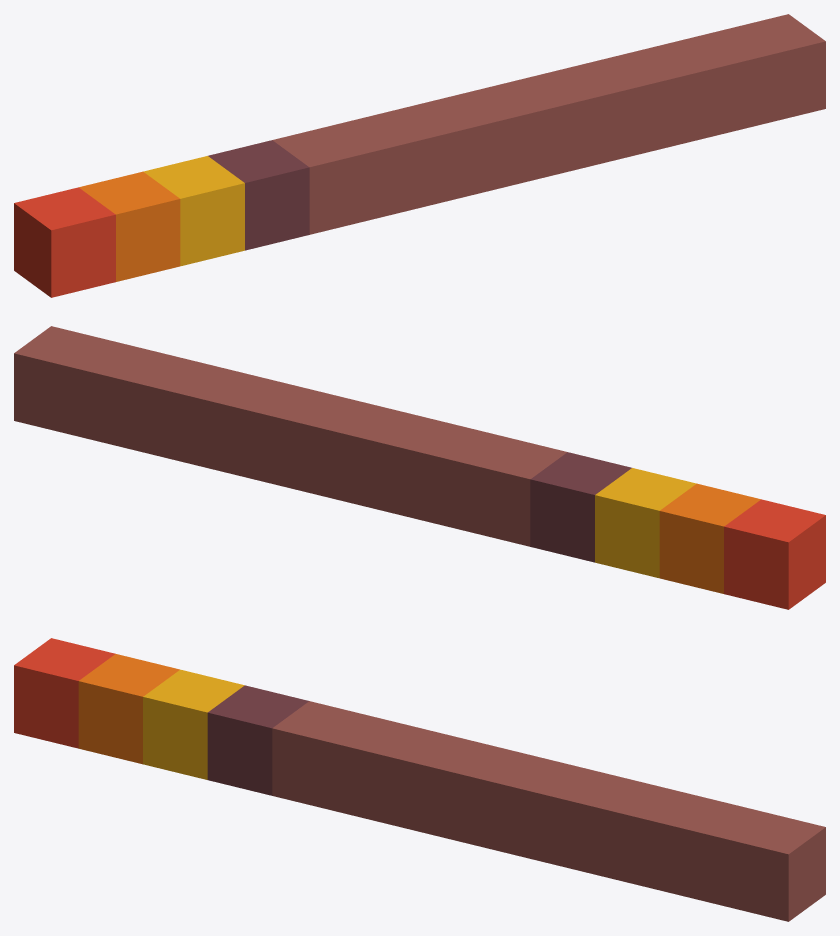
File: torch.fbx
The picture shows the model from 3 angles, top to bottom: view 1: azimuth 30°, elevation 25°; view 2: azimuth 150°, elevation 25°; view 3: azimuth 330°, elevation 25°; orthographic projection.
Visible parts, largest first — view 1: torch; view 2: torch; view 3: torch.
Boxes of the visible parts, <box> form: torch: <box>14,14,825,297</box>; torch: <box>14,326,825,609</box>; torch: <box>14,638,825,921</box>.
Bounding box in the file's own units: 12 × 1 × 1.
Materials: 1 (1 with a texture image).
